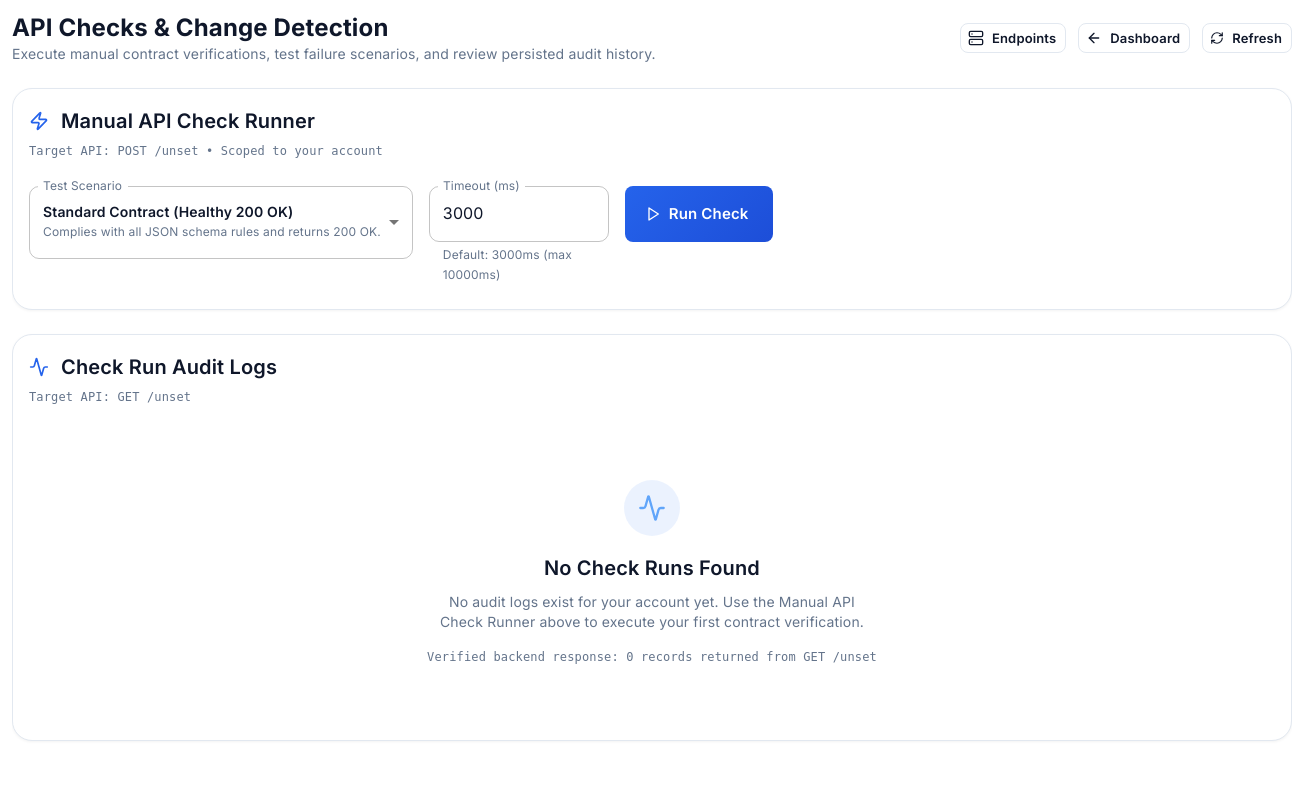
Test case: ChecksPage › executes manual healthy check and renders execution result card
Click the button with test id "execute-check-btn": (699, 214) x1=625 y1=186 x2=772 y2=242
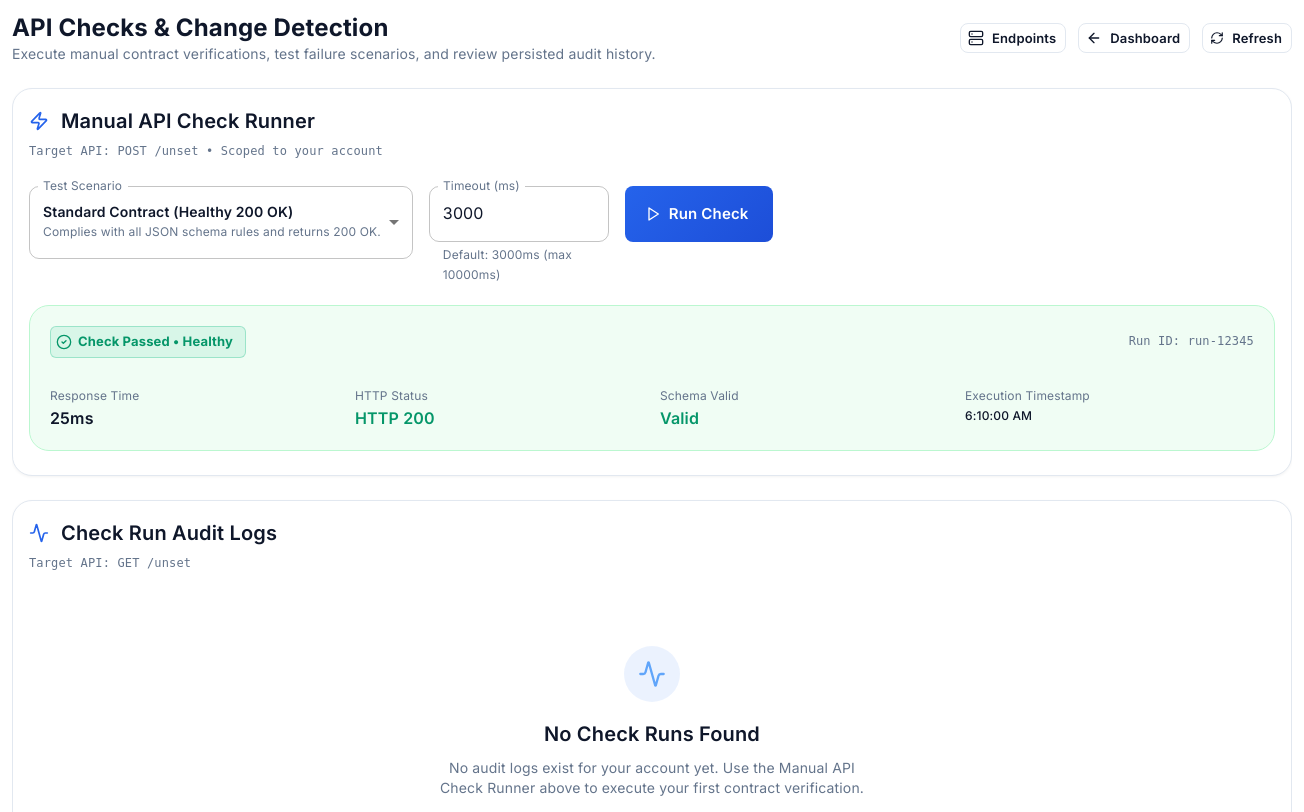
Expected: the element with test id "check-result-card" is shown, x1=29 y1=305 x2=1275 y2=451
Expected: the text "Check Passed • Healthy" is shown, x1=66 y1=332 x2=245 y2=352
Expected: the text "25ms" is shown, x1=50 y1=408 x2=94 y2=428
